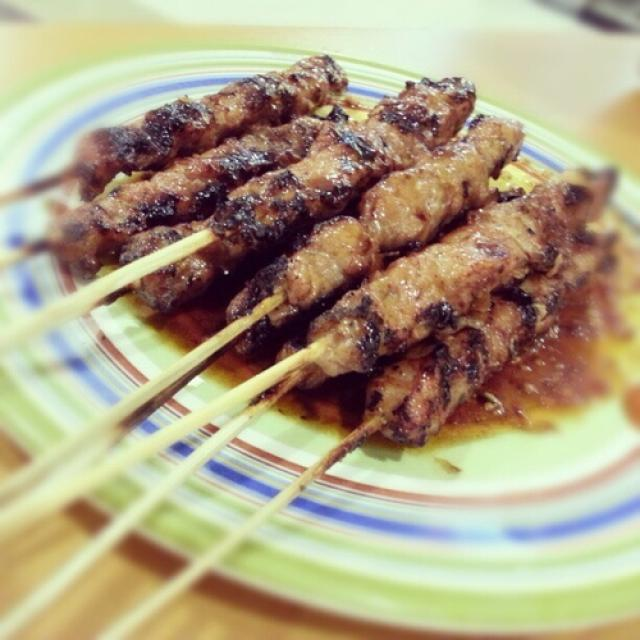牛肉菜式: (50, 42, 616, 480)
